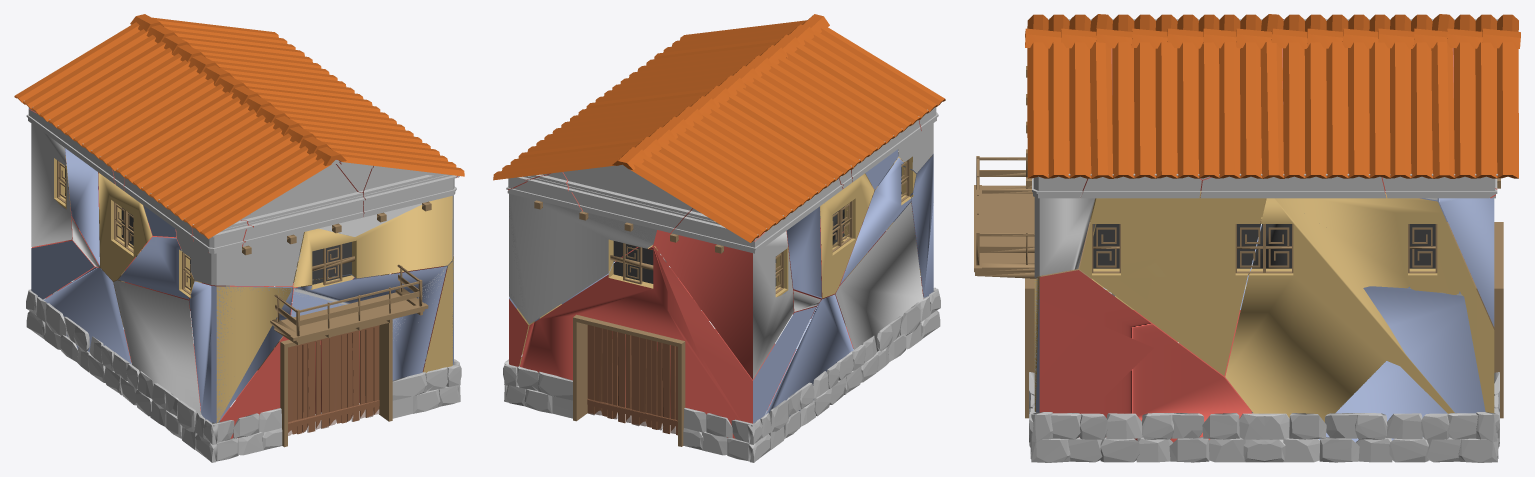
File: SM_villa_roman_fragmentBest.fbx
3 views of the same model, side by side, from view 1: azimuth 30°, elevation 25°; view 2: azimuth 150°, elevation 25°; view 3: azimuth 270°, elevation 25° (orthographic). The views are drawn at different scales.
Parts seen in each view (by area): view 1: Object246_cell.005, Object246_cell.008, Object246_cell.002, Object246.044_cell.001, Object246_cell.014, Object246_cell.004, Object246_cell.006, Object246_cell.016, Object246_cell.015, Object246.044_cell.005, Object246_cell.013, Object246_cell.010 (+77 smaller); view 2: Object246_cell.010, Object246_cell.016, Object246_cell.011, Object246_cell.002, Object246.044_cell.011, Object246_cell.006, Object246_cell.015, Object246.231, Object246.044_cell.012, Object246_cell.013, Object246_cell.005, Object246_cell.019 (+72 smaller); view 3: Object246_cell.018, Object246_cell.007, Object246_cell.003, Object246_cell.008, Object246.044_cell, Object246_cell.011, Object246.151, Object246.170, Object246.154, Object246.162, Object246.159, Object246.167 (+59 smaller).
Part boxes in pixels (<box>): Object246_cell.005: <box>189,281,293,422</box>; Object246_cell.008: <box>293,195,453,287</box>; Object246_cell.002: <box>113,280,200,416</box>; Object246.044_cell.001: <box>123,159,364,246</box>; Object246_cell.014: <box>291,266,447,380</box>; Object246_cell.004: <box>176,229,303,286</box>; Object246_cell.006: <box>44,267,292,406</box>; Object246_cell.016: <box>31,123,72,246</box>; Object246_cell.015: <box>98,173,151,281</box>; Object246.044_cell.005: <box>363,166,457,217</box>; Object246_cell.013: <box>118,237,201,299</box>; Object246_cell.010: <box>31,172,274,299</box>; Object246_cell.010: <box>520,245,815,438</box>; Object246_cell.016: <box>654,228,793,379</box>; Object246_cell.011: <box>509,188,656,324</box>; Object246_cell.002: <box>835,202,923,351</box>; Object246.044_cell.011: <box>563,164,692,232</box>; Object246_cell.006: <box>719,294,853,426</box>; Object246_cell.015: <box>820,173,874,298</box>; Object246.231: <box>573,314,685,446</box>; Object246.044_cell.012: <box>671,178,842,253</box>; Object246_cell.013: <box>840,157,916,284</box>; Object246_cell.005: <box>865,152,933,297</box>; Object246_cell.019: <box>786,206,821,298</box>; Object246_cell.018: <box>1225,192,1494,442</box>; Object246_cell.007: <box>1079,191,1265,375</box>; Object246_cell.003: <box>1034,270,1252,442</box>; Object246_cell.008: <box>1034,191,1095,277</box>; Object246.044_cell: <box>1200,173,1386,198</box>; Object246_cell.011: <box>1439,198,1494,326</box>; Object246.151: <box>974,193,1034,272</box>; Object246.170: <box>1155,42,1177,178</box>; Object246.154: <box>1431,42,1455,178</box>; Object246.162: <box>1326,42,1348,178</box>; Object246.159: <box>1260,42,1284,178</box>; Object246.167: <box>1090,42,1114,178</box>.
Size of the model in its own units: 818 by 837 by 1172.
